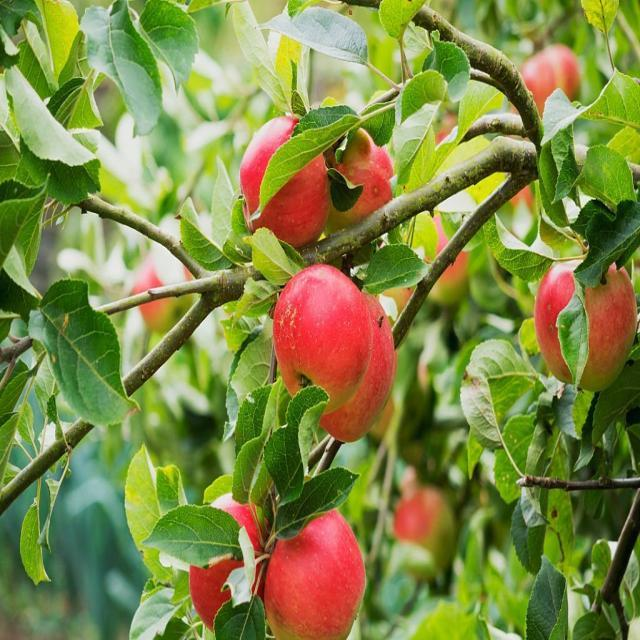Red Apple: (270, 501, 367, 640), (540, 255, 635, 388), (278, 270, 368, 403), (320, 288, 400, 427), (243, 113, 330, 240), (192, 491, 271, 620), (326, 127, 395, 230)
